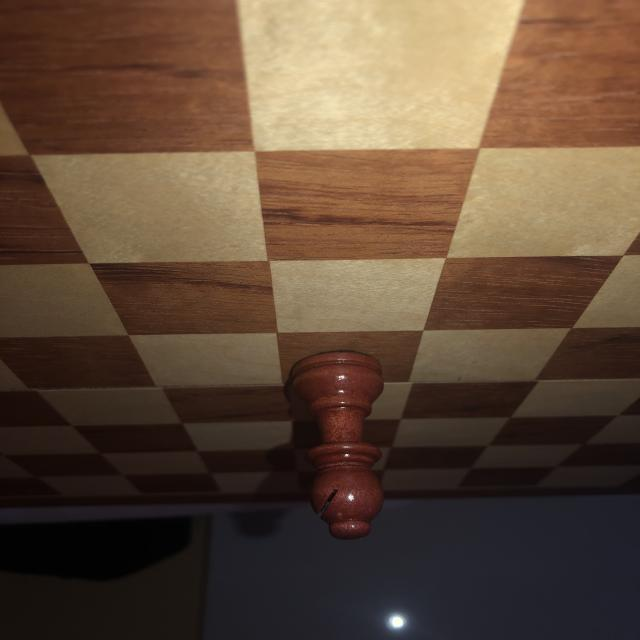black_bishop: (292, 350, 385, 538)
